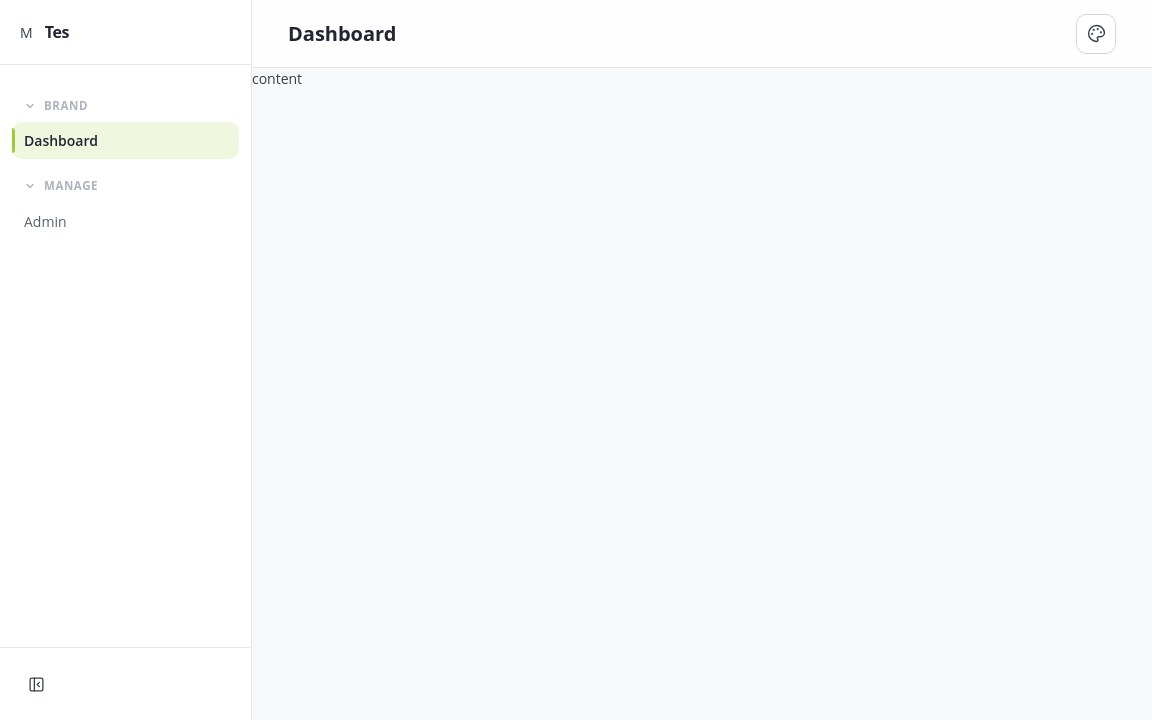
Test: collapsible sidebar groups › unfolds again on a second press
Click the button "Brand" at [126, 102], box [12,81,239,122]
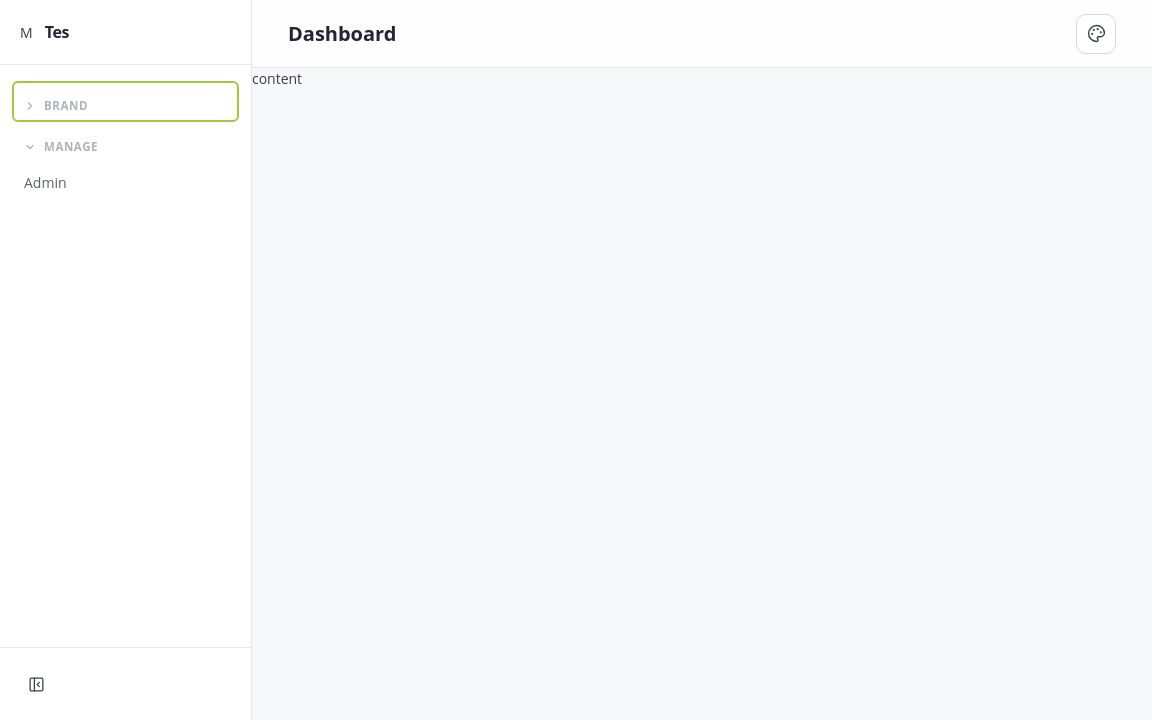
Click the button "Brand" at [126, 102], box [12,81,239,122]
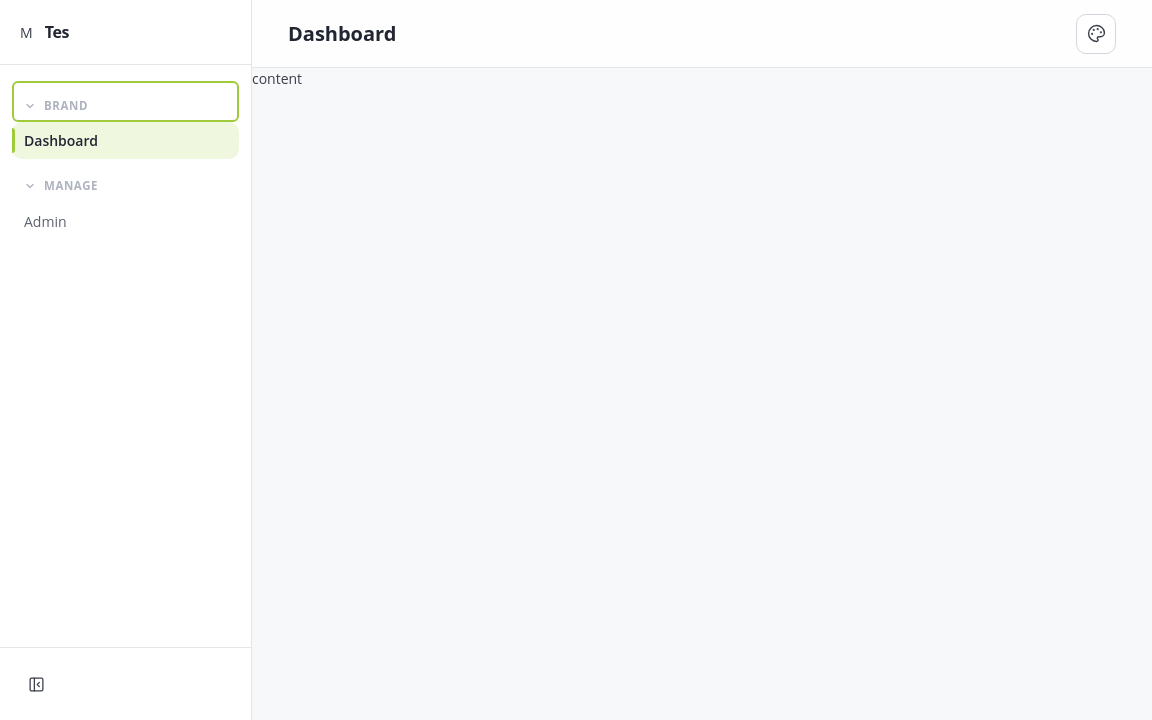
Expected: the button "Dashboard" is shown, [12,122,239,159]
